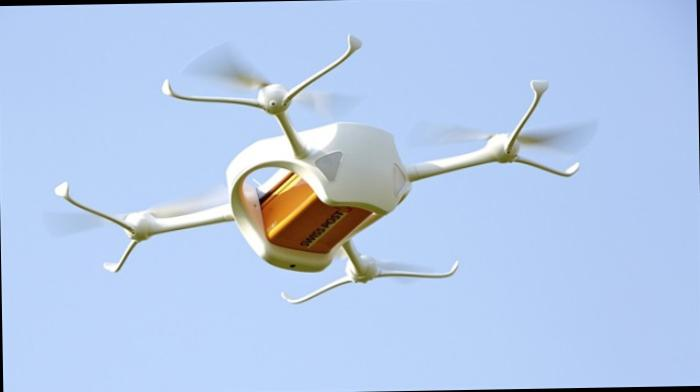drone: (35, 48, 591, 316)
